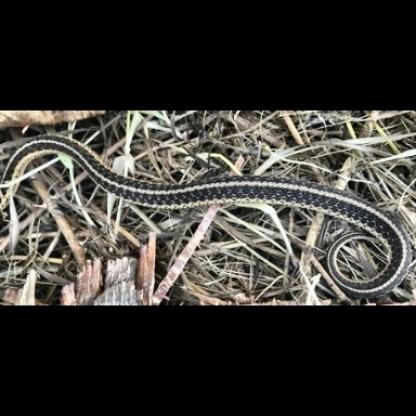Snake: (0, 132, 323, 244)
